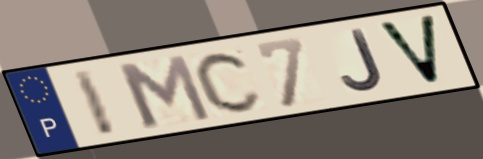7: (252, 34, 310, 110)
C: (192, 49, 267, 115)
I: (68, 65, 120, 140)
J: (339, 26, 388, 94)
M: (111, 52, 216, 131)
V: (372, 12, 444, 88)
